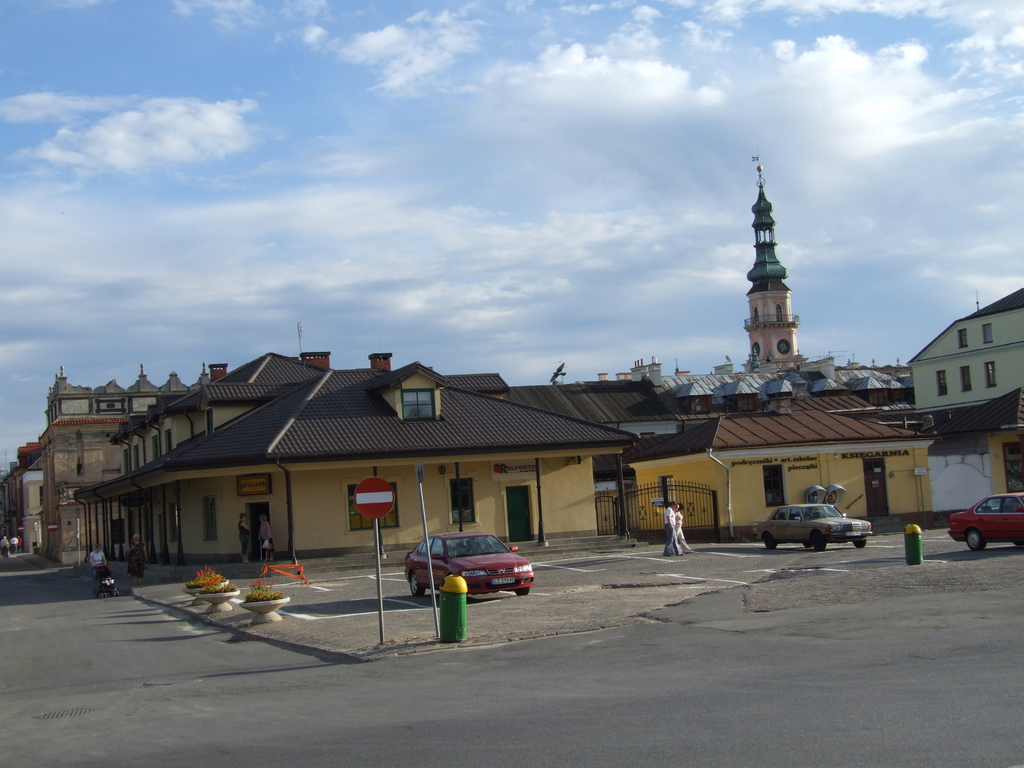Car: (404, 531, 538, 591), (753, 503, 872, 547), (950, 489, 1023, 549)
